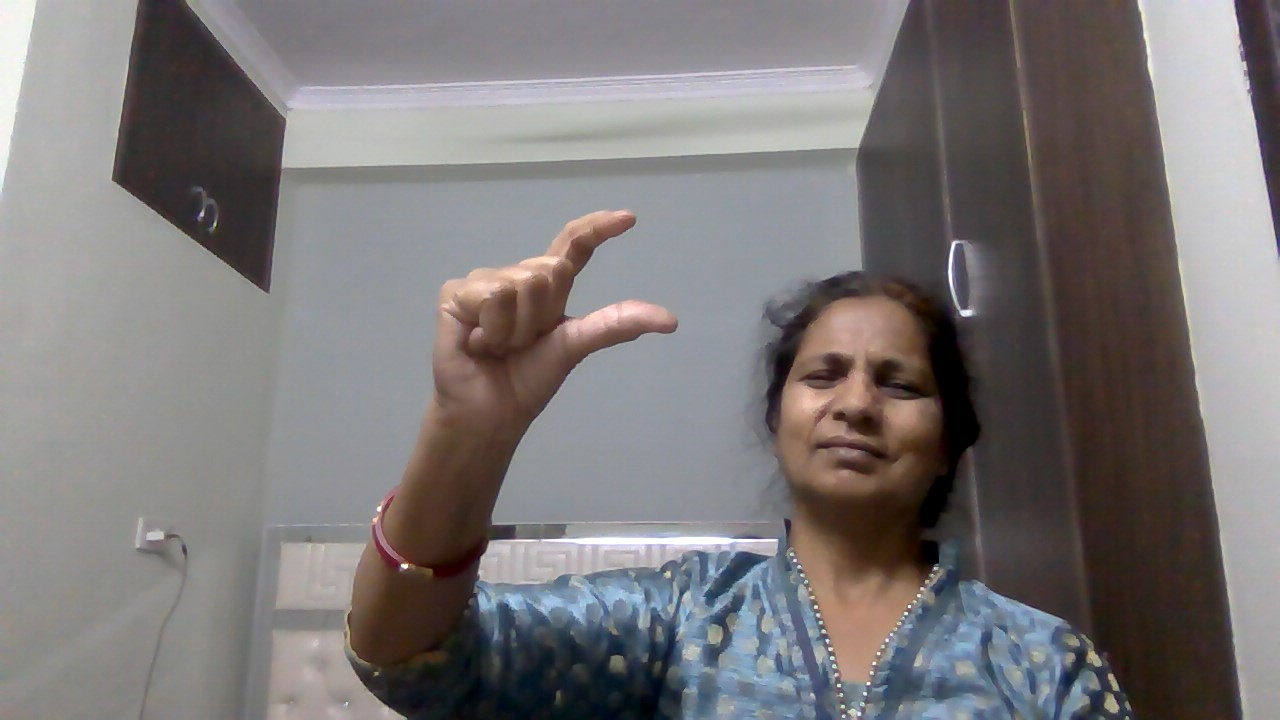Paste: (421, 199, 687, 451)
